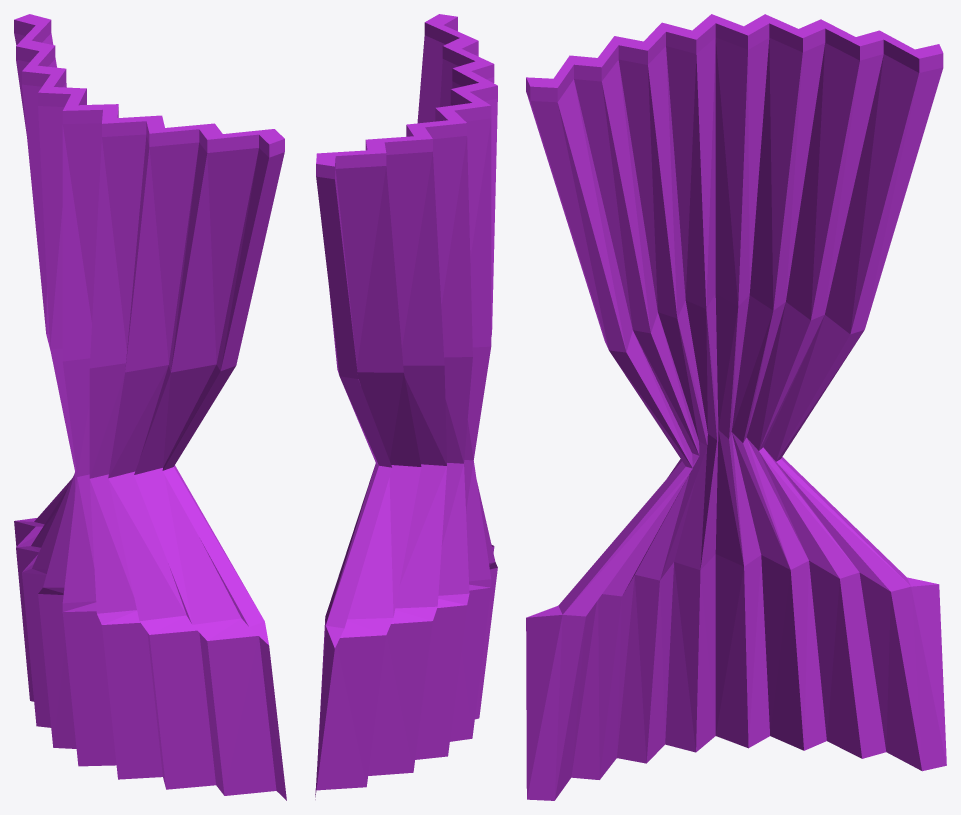
The model's file is ENVIRONMENT_OFFICE_KORDEN_CURVE.fbx.
3 renders of one model, left to right at view 1: azimuth 30°, elevation 25°; view 2: azimuth 150°, elevation 25°; view 3: azimuth 270°, elevation 25°, orthographic. The views are drawn at different scales.
Visible parts, largest first — view 1: Cube.247; view 2: Cube.247; view 3: Cube.247.
Part boxes in pixels (left/top/right/bottom): Cube.247: left=14, top=14, right=286, bottom=800; Cube.247: left=315, top=14, right=497, bottom=799; Cube.247: left=526, top=14, right=946, bottom=800.
Size of the model in its own units: 126 by 566 by 303.
